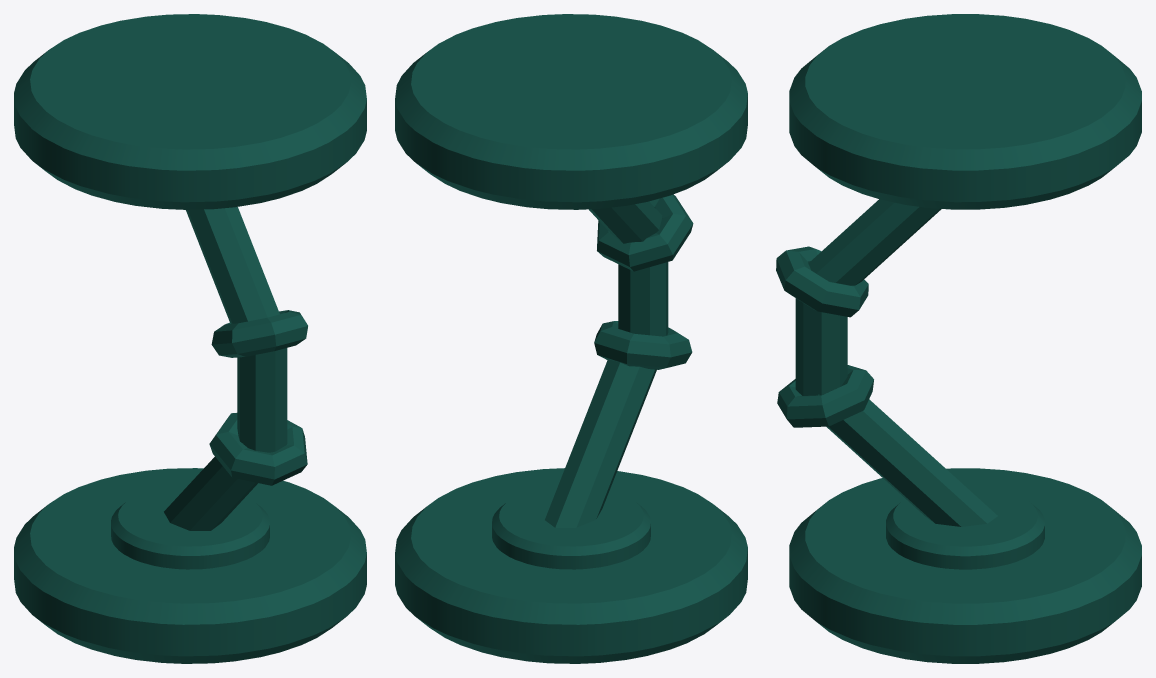
Rendered from bar chair.fbx.
3 renders of one model, left to right at view 1: azimuth 30°, elevation 25°; view 2: azimuth 150°, elevation 25°; view 3: azimuth 270°, elevation 25°, orthographic.
Visible parts, largest first — view 1: pCylinder9; view 2: pCylinder9; view 3: pCylinder9.
Boxes of the visible parts, x1,y1,x2,y2 form: pCylinder9: (14, 14, 366, 663); pCylinder9: (395, 14, 747, 663); pCylinder9: (776, 14, 1141, 663).
Bounding box in the file's own units: 164 × 264 × 170.
